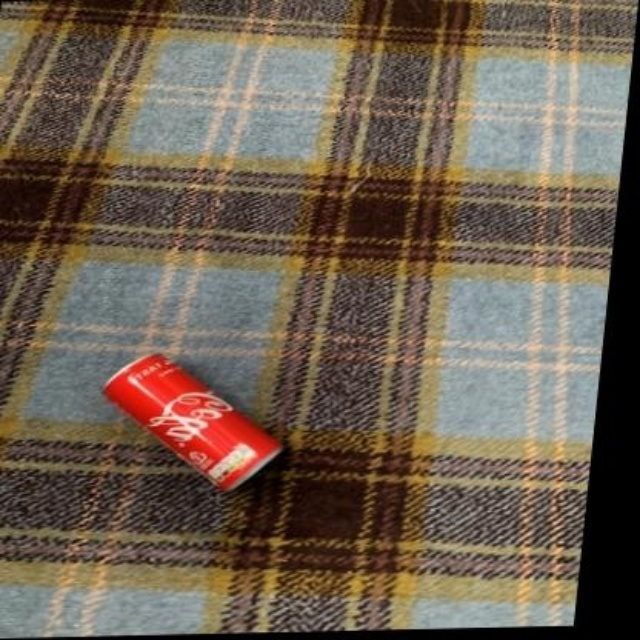trash: (103, 354, 280, 489)
